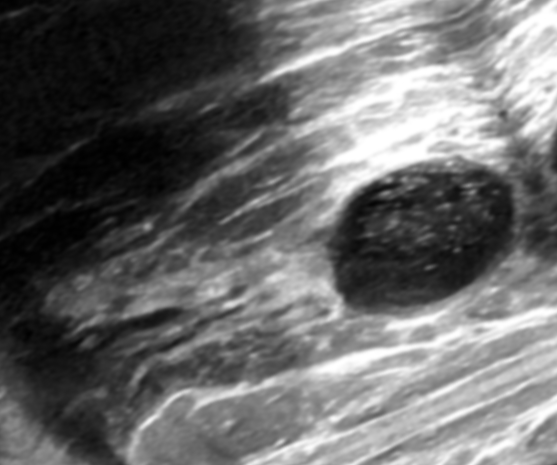Benign: (328, 155, 516, 305)
